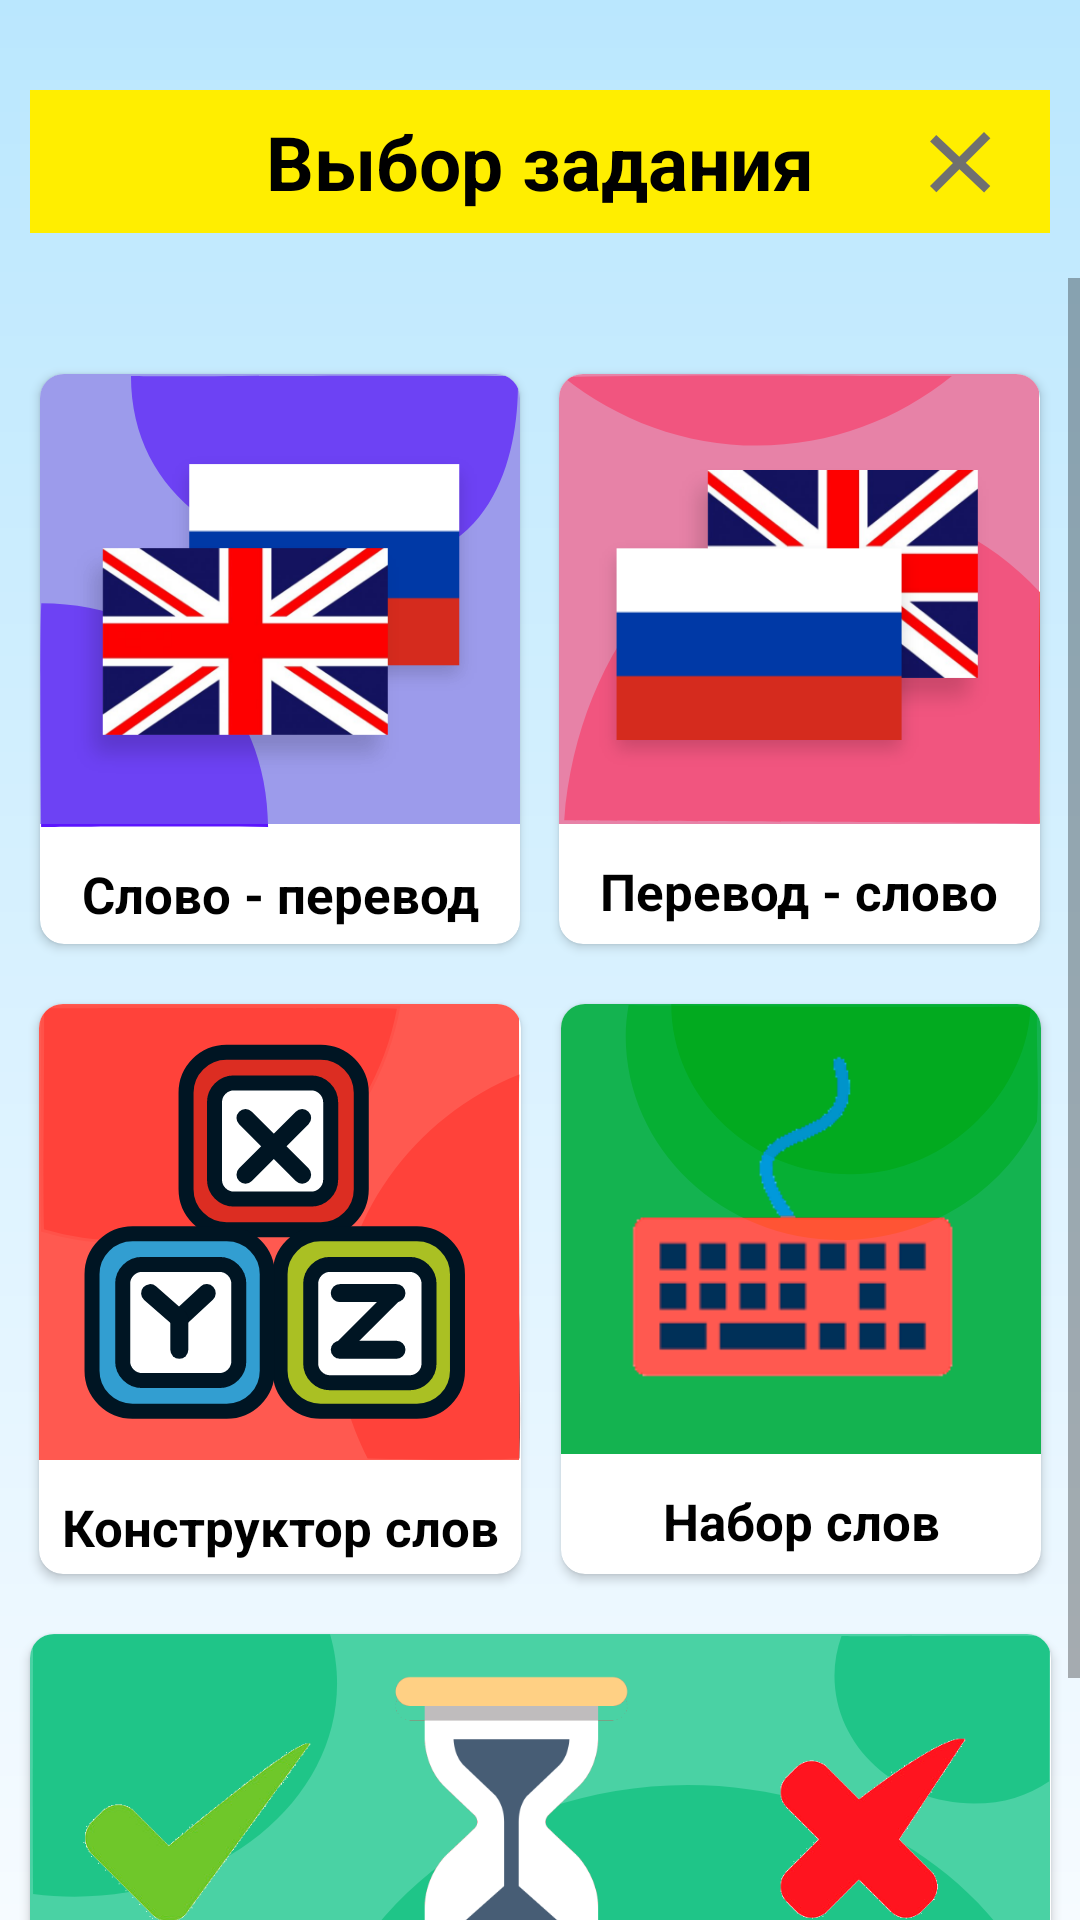

Icons on this 1080 × 1920 Android screen, each with the point to tap as (x=x, y=y):
cross: (x=960, y=162)
